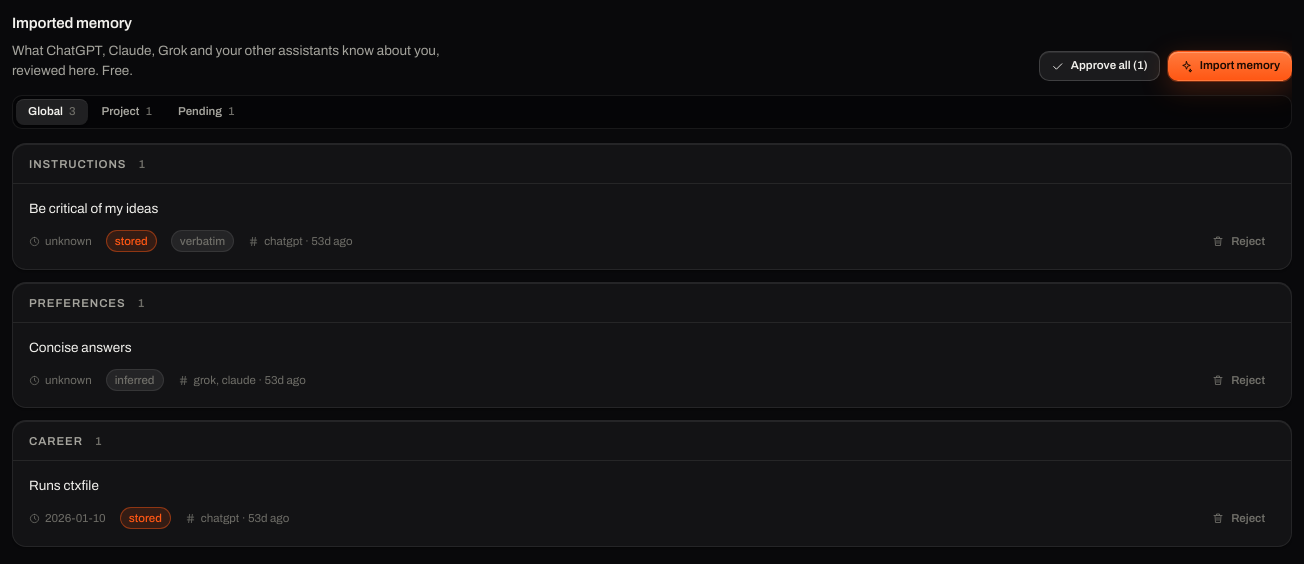
Test: ImportedMemory › switches to the project scope
This screenshot has width=1304, height=564.
Expected: the text "Be critical of my ideas" is shown, top-left (29, 201), bottom-right (158, 216)
Step 1. Click the tab "Project 1" → (127,112), box top-left (90, 99), bottom-right (164, 125)
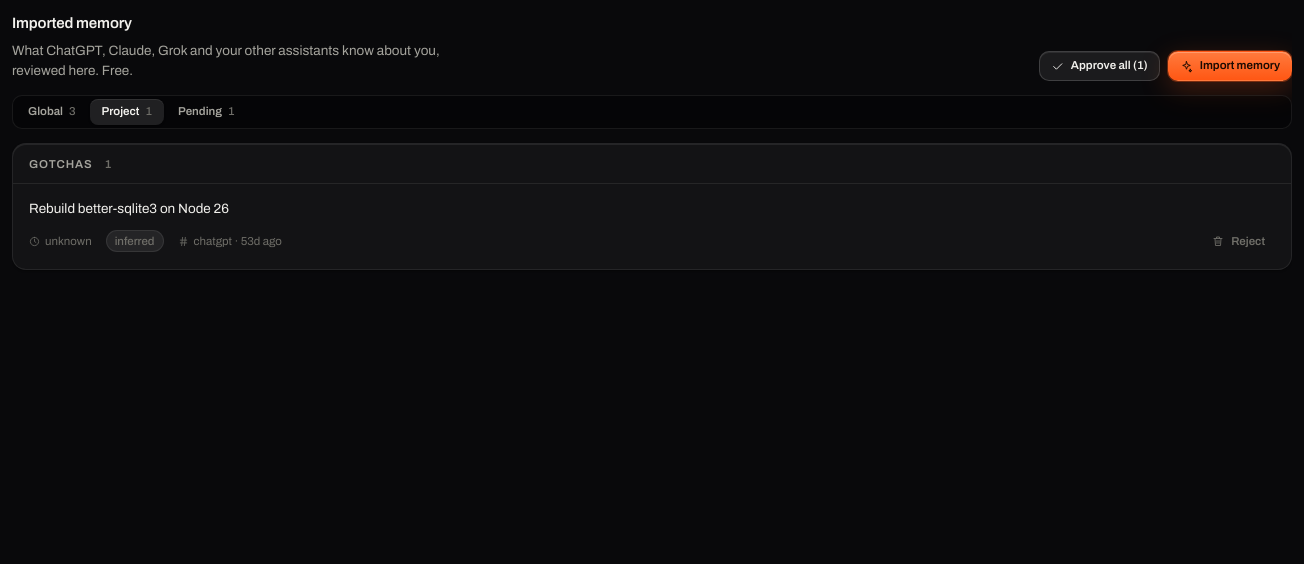
Expected: the text "Rebuild better-sqlite3 on Node 26" is shown, top-left (29, 201), bottom-right (229, 216)
Expected: the text "Be critical of my ideas" is gone
